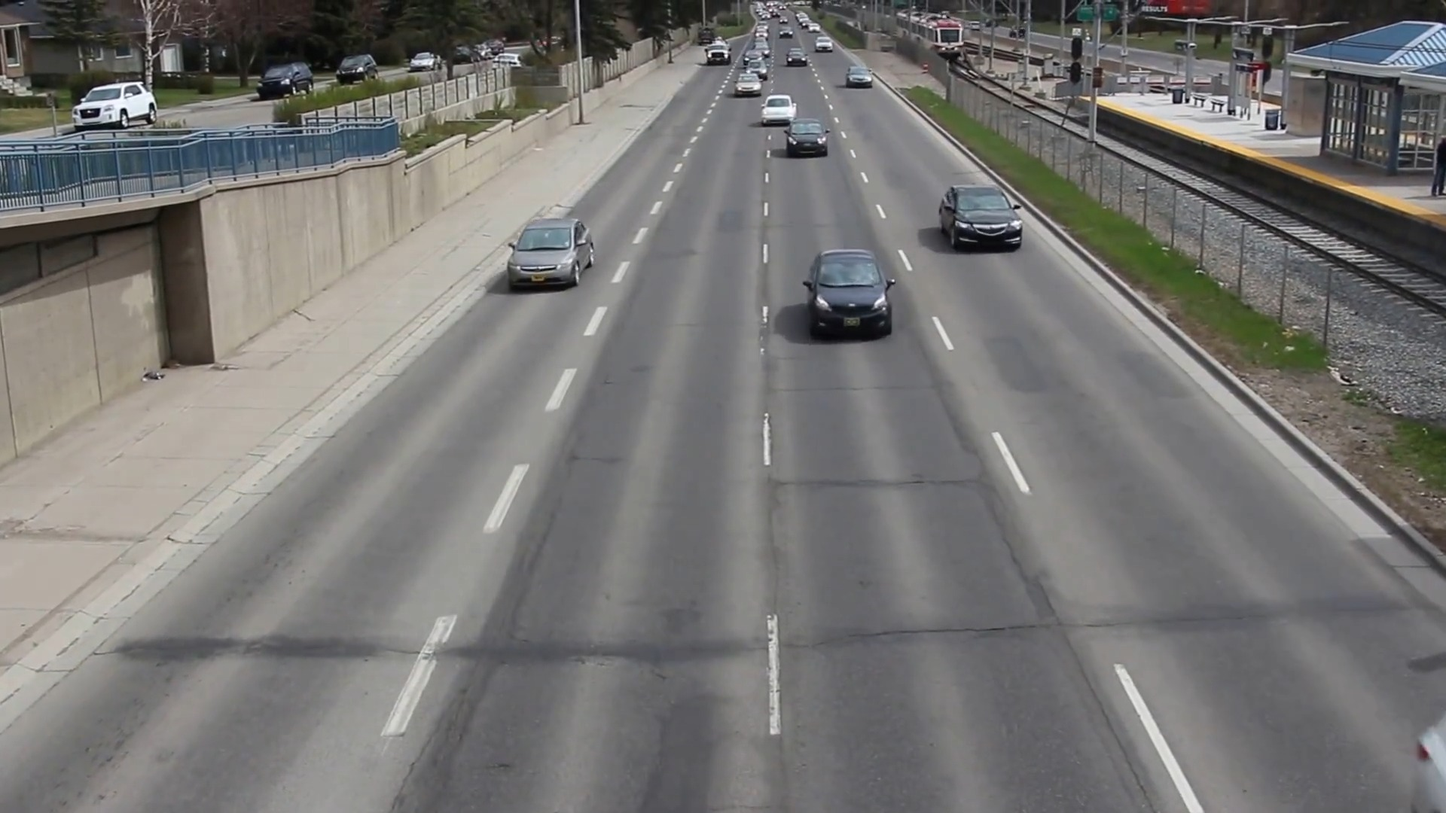car: (802, 249, 900, 340), (501, 207, 591, 297), (940, 181, 1030, 256)
